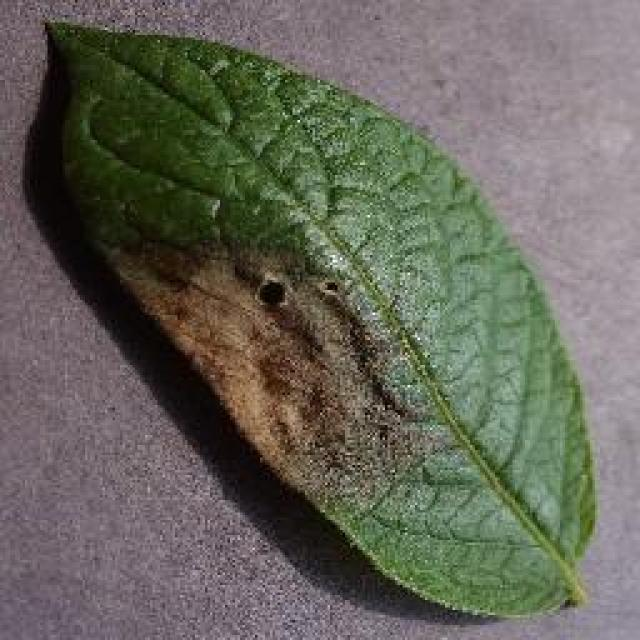late_blight: (35, 15, 600, 623)
